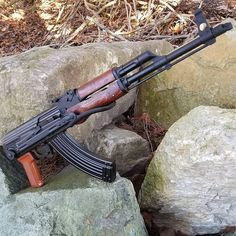ak47: (5, 12, 232, 184)
